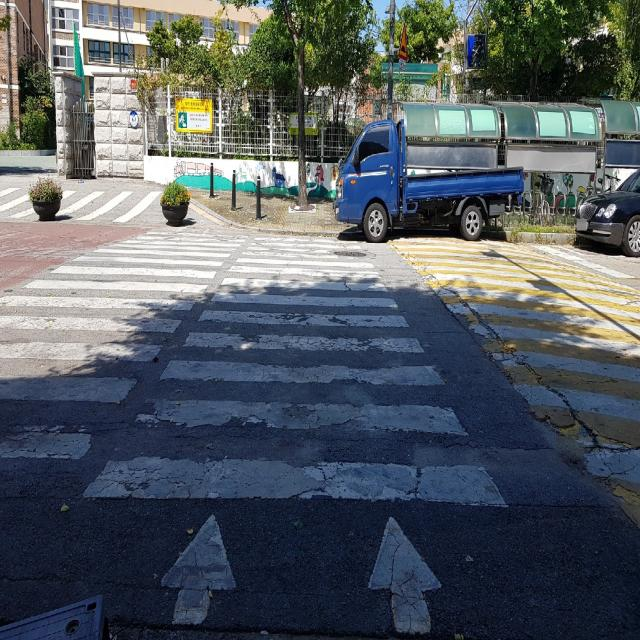횡단보도: (0, 230, 511, 639), (0, 188, 158, 224)
